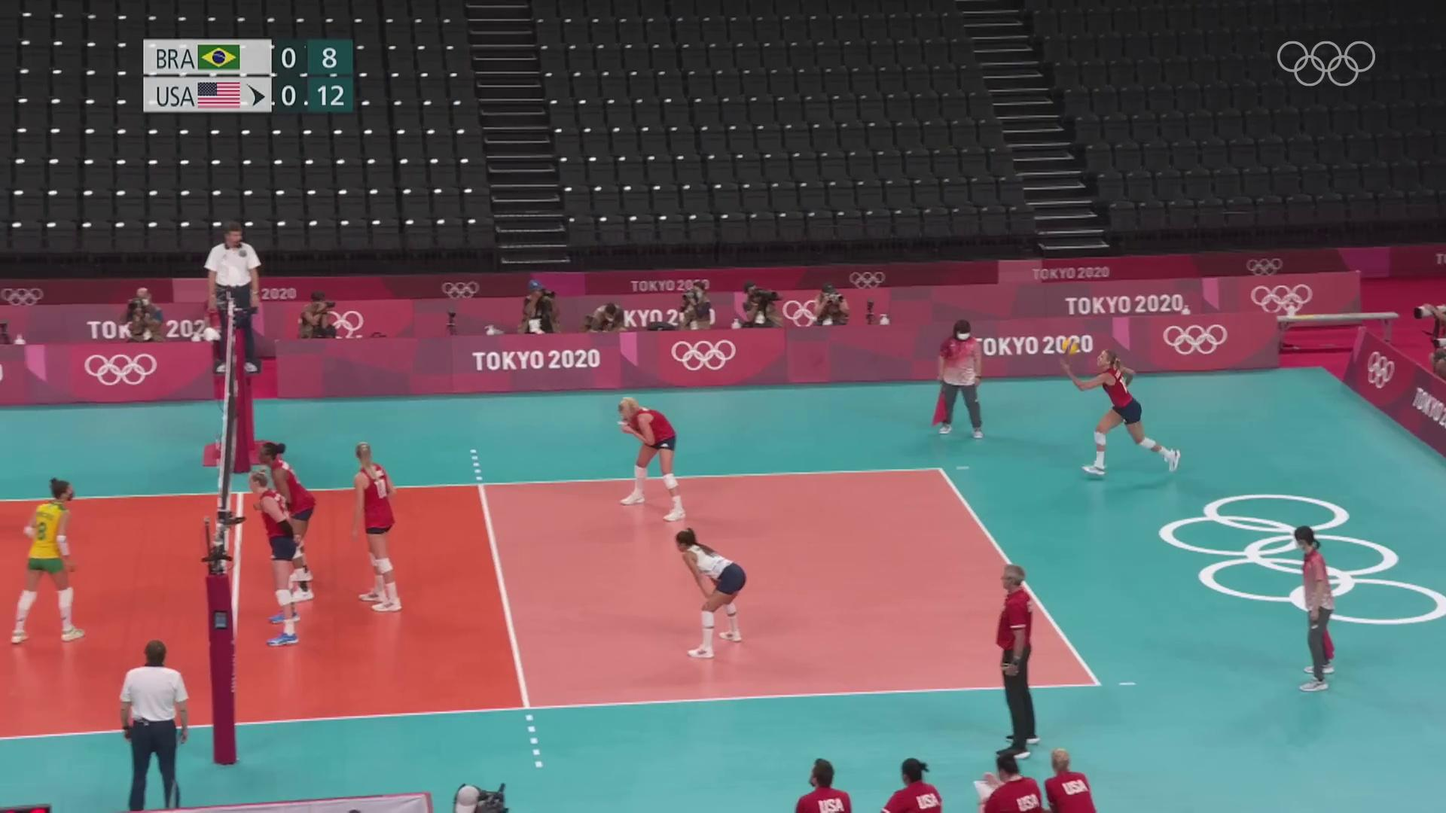player: (1065, 348, 1184, 475), (7, 477, 82, 645), (672, 526, 748, 659), (246, 470, 301, 646), (259, 442, 317, 603), (348, 442, 401, 611), (616, 398, 686, 524)
refree: (118, 644, 193, 809), (1291, 524, 1343, 695), (207, 224, 261, 374), (932, 319, 987, 439)
